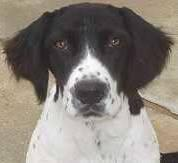dog: (5, 3, 172, 162)
